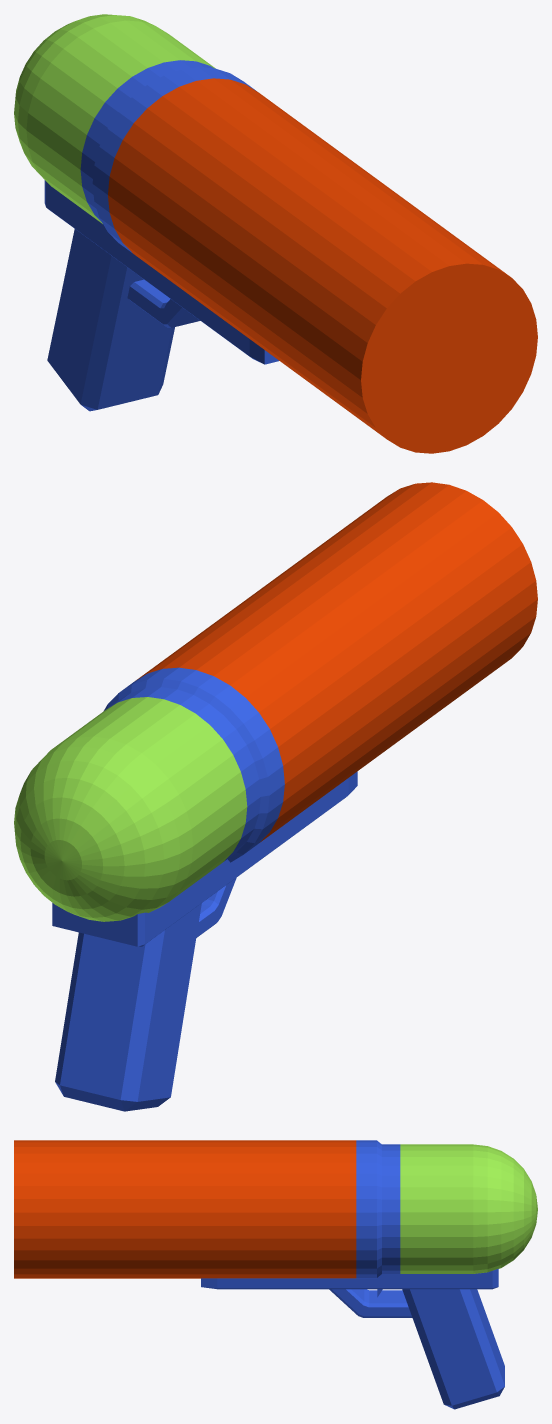
Rendered from gun2.fbx.
The picture shows the model from 3 angles, top to bottom: view 1: azimuth 30°, elevation 25°; view 2: azimuth 150°, elevation 25°; view 3: azimuth 270°, elevation 25°; orthographic projection. The views are drawn at different scales.
Parts seen in each view (by area): view 1: Gun, Grip, Stock, Handle; view 2: Gun, Grip, Stock, Handle; view 3: Gun, Grip, Stock, Handle.
Part boxes in pixels (bbox=[...]): Gun: bbox=[14, 14, 537, 453]; Grip: bbox=[47, 229, 174, 411]; Stock: bbox=[44, 180, 278, 364]; Handle: bbox=[127, 279, 200, 327]; Gun: bbox=[14, 482, 537, 921]; Grip: bbox=[55, 903, 201, 1111]; Stock: bbox=[52, 771, 357, 946]; Handle: bbox=[196, 878, 236, 937]; Gun: bbox=[14, 1140, 537, 1278]; Grip: bbox=[402, 1289, 504, 1409]; Stock: bbox=[201, 1268, 498, 1289]; Handle: bbox=[329, 1289, 412, 1317].
Bounding box in the file's own units: 24.08 × 48.8 × 91.27.
